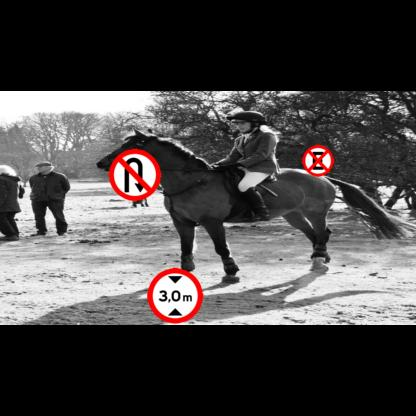R-15: (147, 268, 203, 323)
R-6c: (302, 145, 334, 177)
